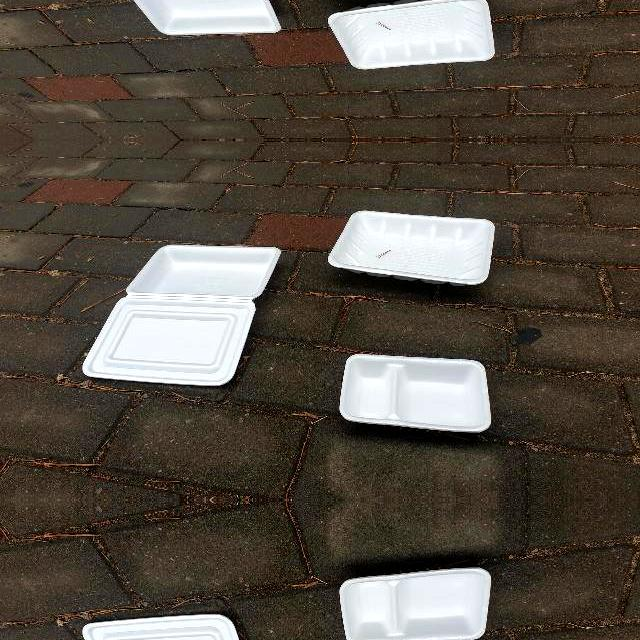Styrofoam: (82, 244, 281, 386), (84, 244, 282, 386), (327, 210, 495, 286), (337, 354, 491, 436), (328, 210, 496, 285), (340, 354, 492, 432), (328, 0, 496, 70), (327, 0, 495, 70), (337, 564, 491, 640), (340, 568, 492, 640), (83, 0, 282, 35), (132, 0, 281, 36)
